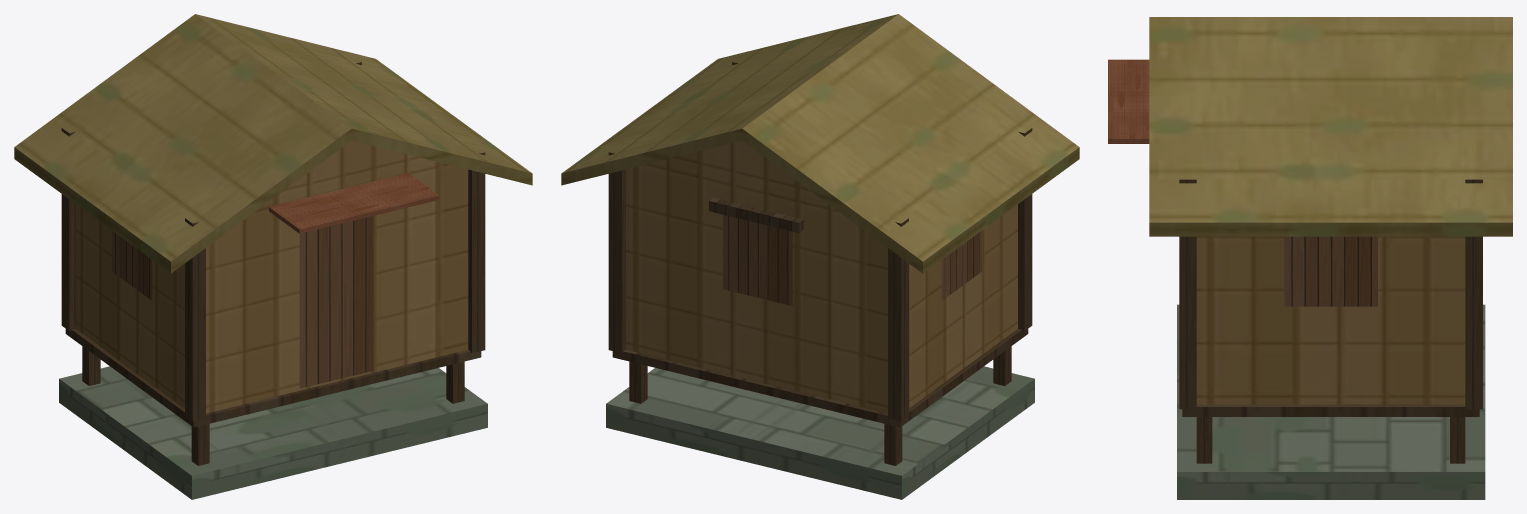
Rendered from ae_jungle_wood_small_booth_lod1.glb.
3 views of the same model, side by side, from view 1: azimuth 30°, elevation 25°; view 2: azimuth 150°, elevation 25°; view 3: azimuth 270°, elevation 25° (orthographic). The views are drawn at different scales.
Visible parts, largest first — view 1: ae_jungle_wood_small_booth_lod1; view 2: ae_jungle_wood_small_booth_lod1; view 3: ae_jungle_wood_small_booth_lod1.
Part boxes in pixels (left/top/right/bottom): ae_jungle_wood_small_booth_lod1: left=14, top=14, right=532, bottom=499; ae_jungle_wood_small_booth_lod1: left=561, top=14, right=1079, bottom=499; ae_jungle_wood_small_booth_lod1: left=1108, top=17, right=1512, bottom=499.
Size of the model in its own units: 4.4 by 4 by 3.67.
1 material, 1 textured.
